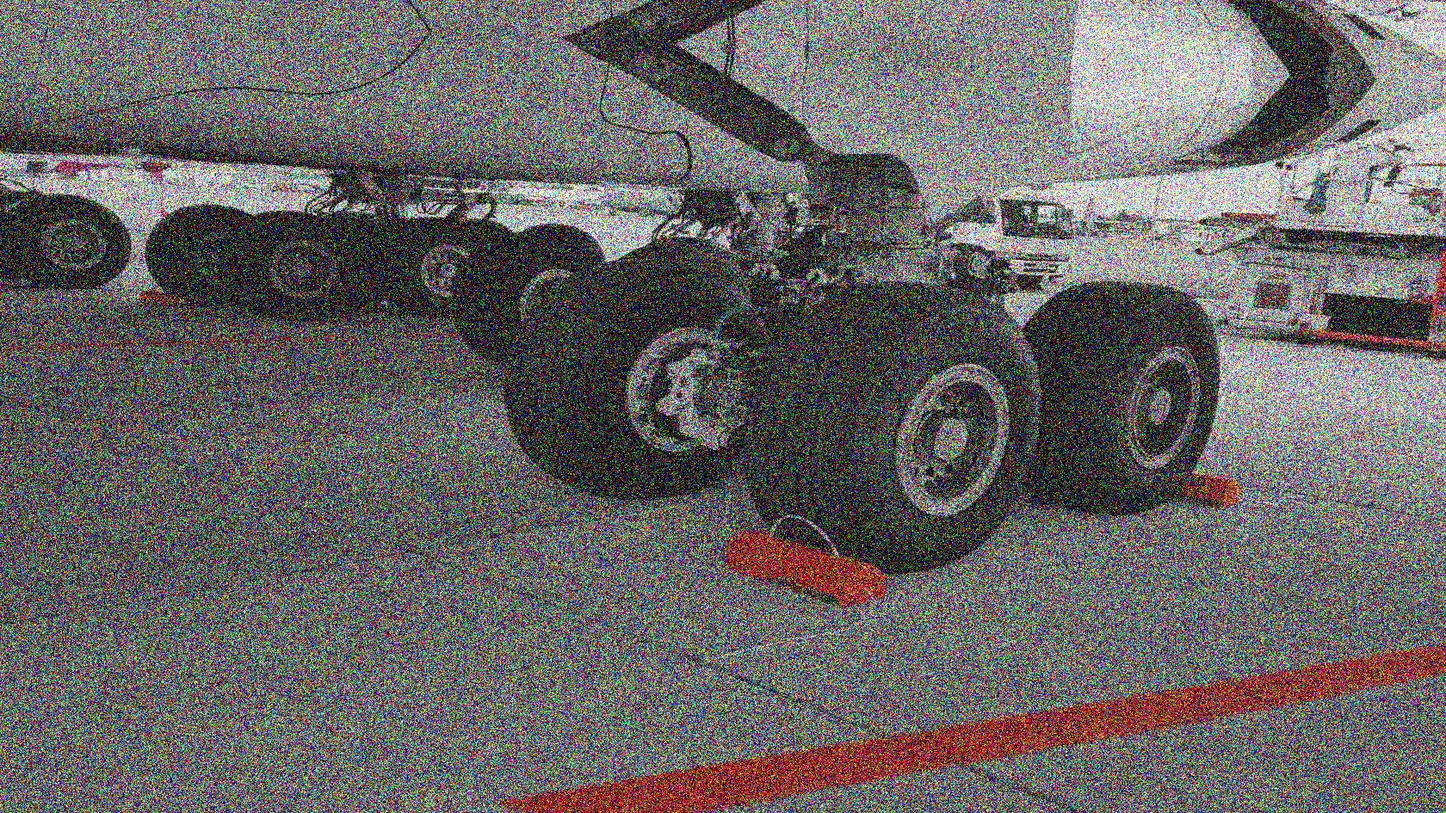chock: (719, 526, 898, 608), (1106, 464, 1249, 510), (131, 289, 187, 310)
wheel: (731, 269, 1049, 573), (502, 243, 772, 505), (1003, 274, 1228, 518), (449, 218, 611, 366), (218, 206, 363, 324), (0, 189, 135, 292), (138, 198, 256, 308), (371, 213, 487, 320), (329, 210, 405, 306), (617, 236, 748, 289), (1334, 298, 1418, 354), (513, 220, 606, 261)
